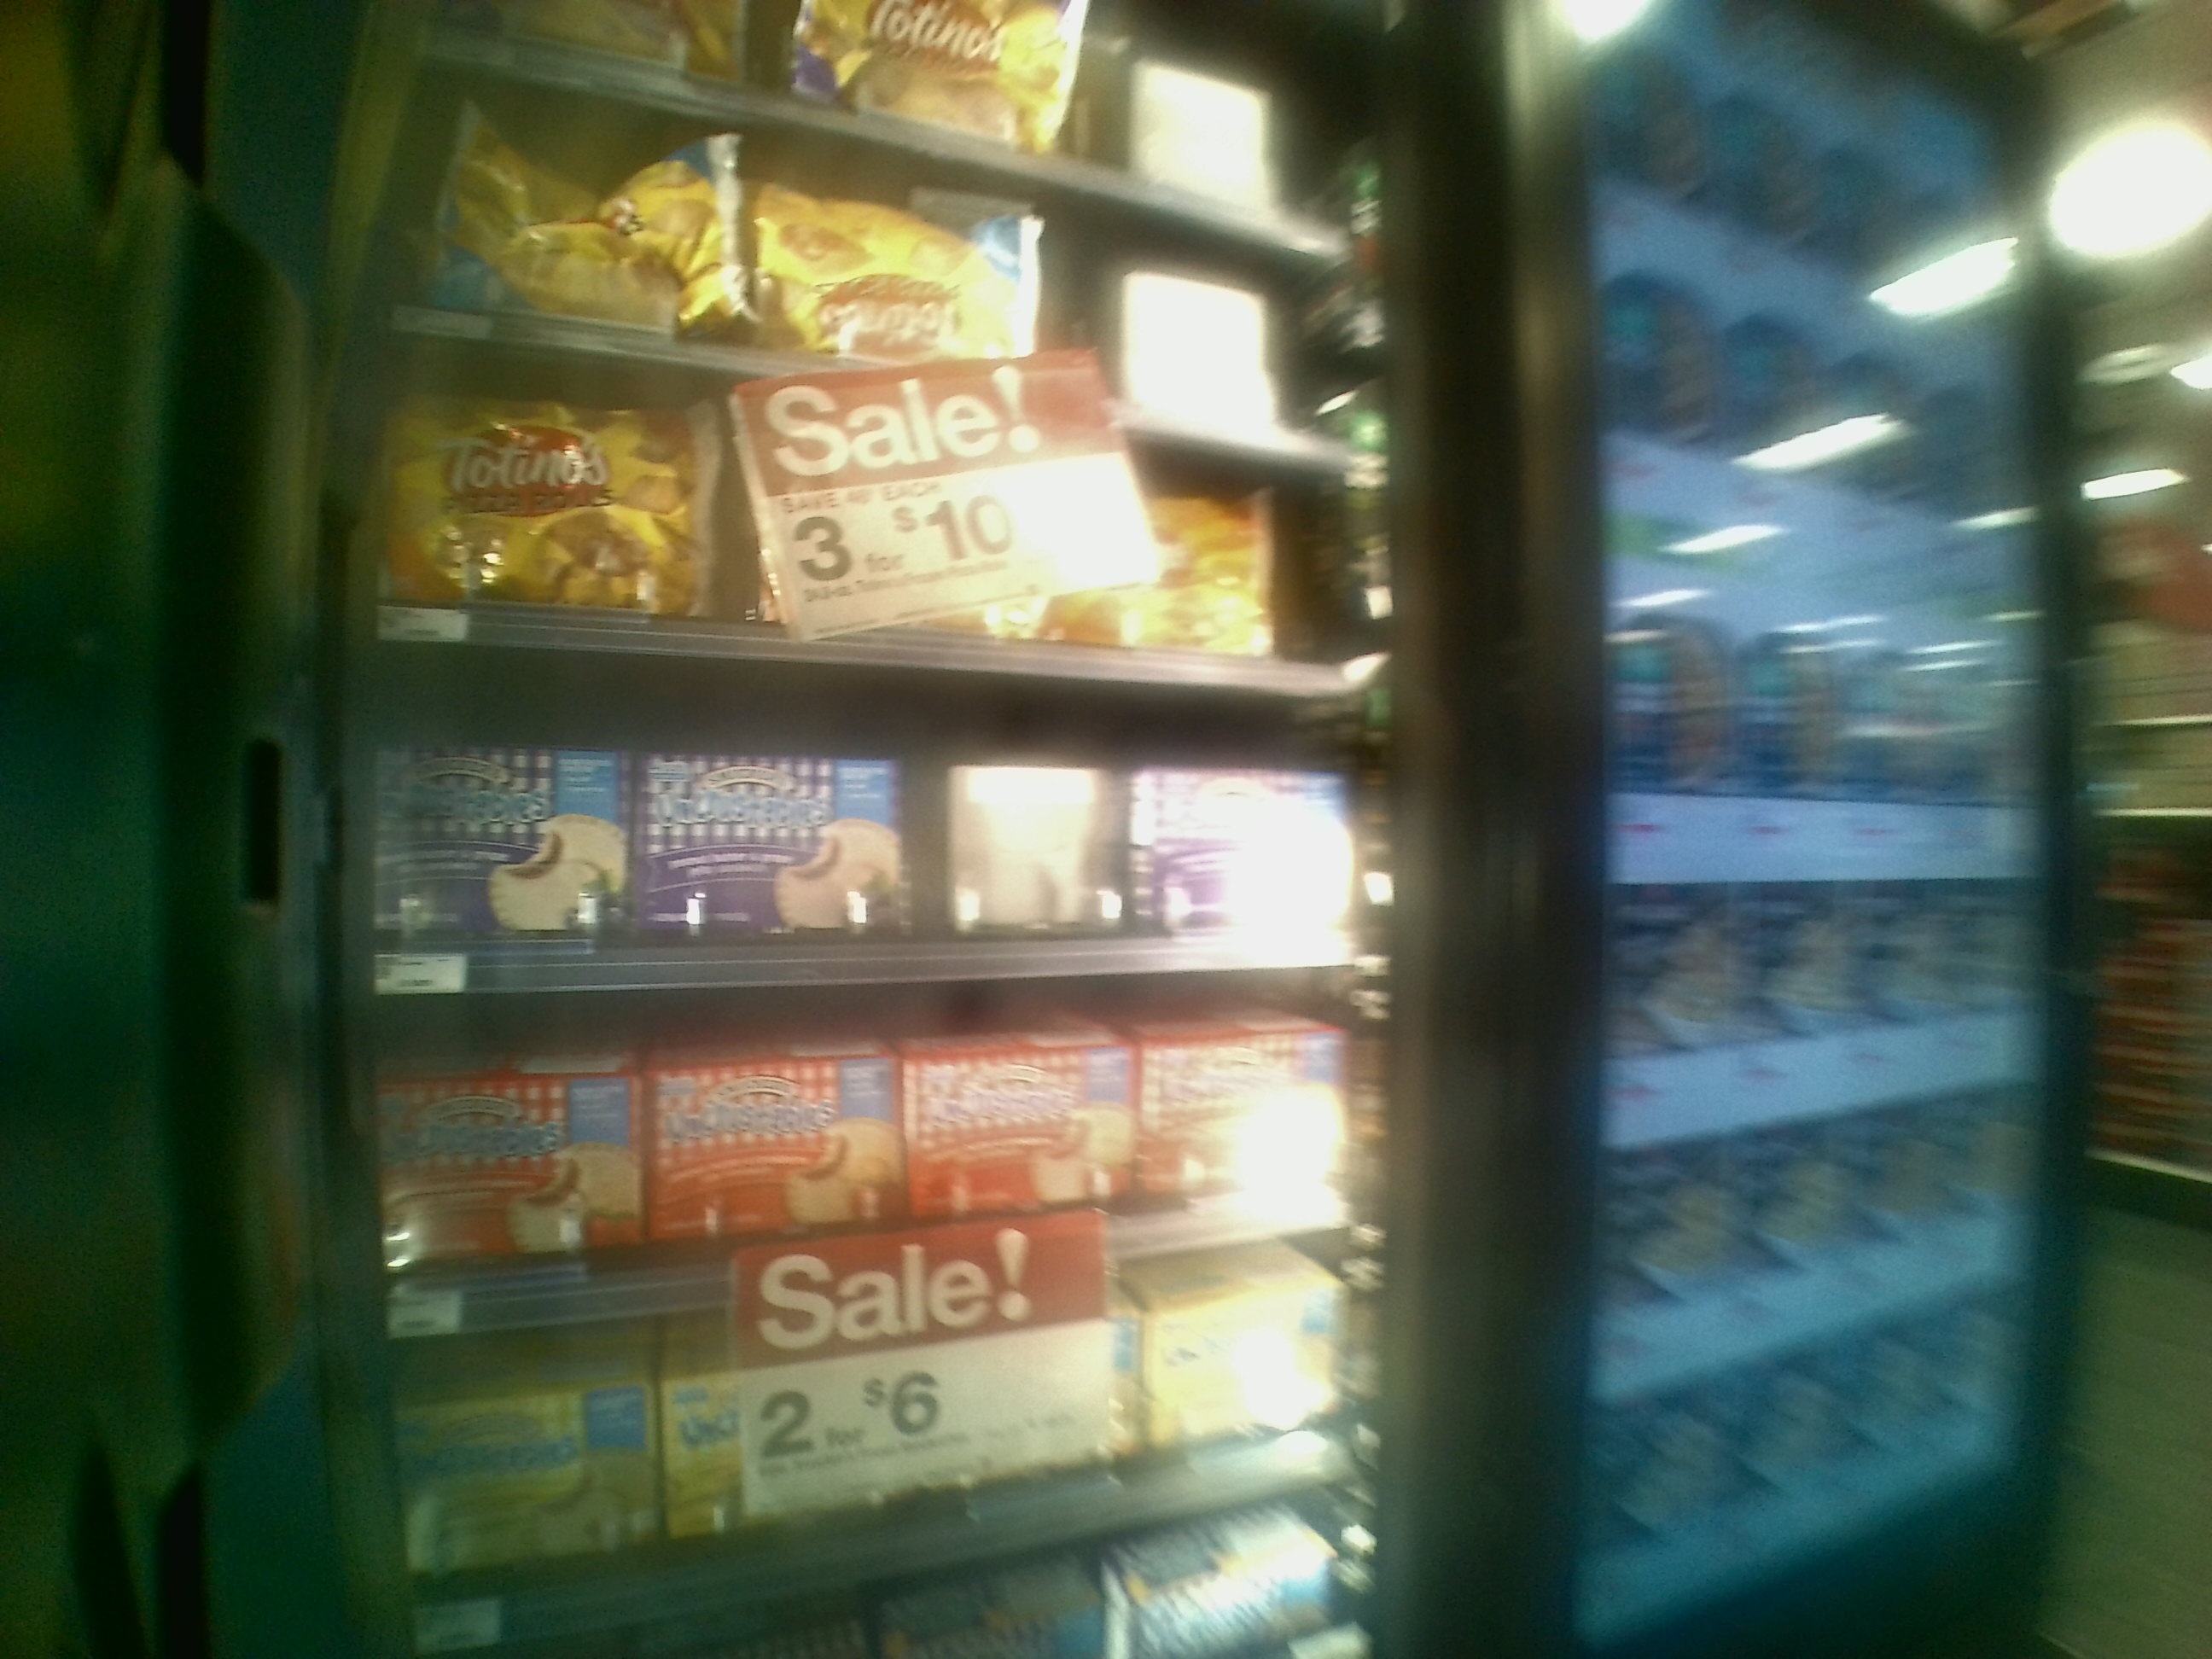shelf: (354, 80, 1348, 462), (364, 354, 1369, 706), (359, 660, 1374, 995), (369, 1014, 1369, 1310), (387, 1331, 1379, 1626)
